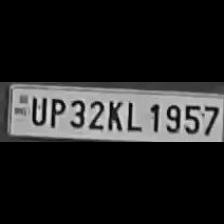1: (144, 100, 162, 132)
2: (86, 97, 104, 130)
3: (65, 96, 84, 128)
5: (181, 100, 201, 134)
7: (202, 103, 218, 137)
9: (162, 100, 180, 134)
K: (104, 97, 124, 132)
L: (123, 97, 143, 132)
P: (45, 95, 65, 127)
U: (26, 94, 46, 126)
